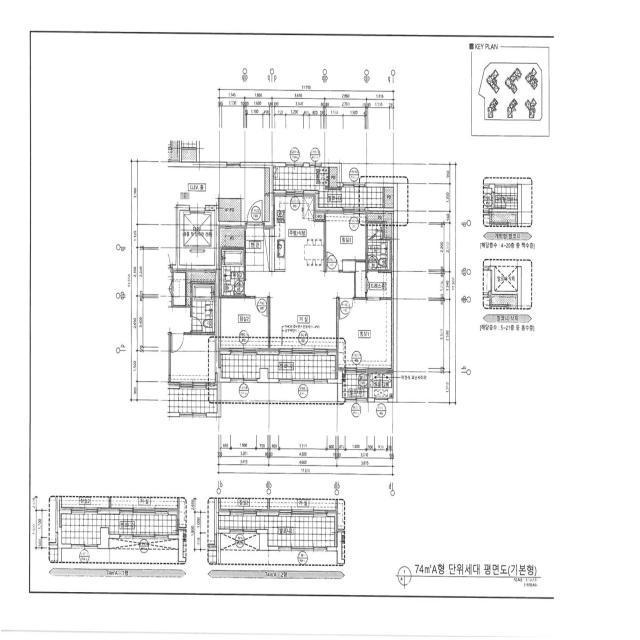space_balconi: (273, 167, 383, 208), (222, 355, 335, 379), (342, 373, 367, 398)
space_bedroom: (338, 299, 393, 370), (219, 298, 268, 352), (326, 211, 366, 271)
space_dressroom: (356, 262, 391, 298)
space_elevator: (180, 210, 215, 265)
space_elevator_hall: (168, 167, 265, 265)
space_front: (245, 224, 269, 272)
space_kitchen: (273, 193, 324, 272)
space_living_room: (246, 271, 354, 352)
space_other: (367, 211, 393, 237), (219, 227, 244, 247), (219, 199, 241, 221), (265, 168, 269, 222), (384, 187, 393, 208), (330, 167, 337, 188)
space_outdoor_room: (369, 372, 393, 398)
space_toilet: (221, 249, 244, 296), (367, 223, 390, 270)
